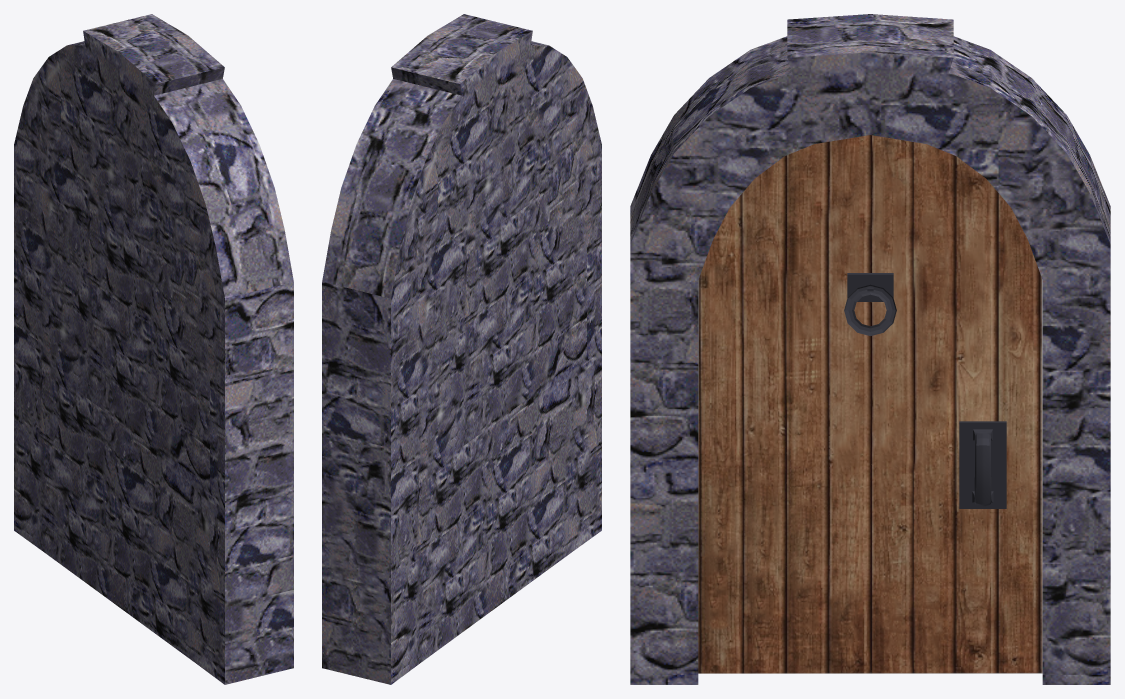
Rendered from SM_door.fbx.
3 views of the same model, side by side, from view 1: azimuth 30°, elevation 25°; view 2: azimuth 150°, elevation 25°; view 3: azimuth 270°, elevation 25° (orthographic). The views are drawn at different scales.
Visible parts, largest first — view 1: SM_door; view 2: SM_door; view 3: SM_door.
Part boxes in pixels (x1,y1,x2,y2): SM_door: (14, 14, 293, 684); SM_door: (322, 14, 601, 684); SM_door: (630, 14, 1110, 684).
Bounding box in the file's own units: 29.03 × 218 × 150.
